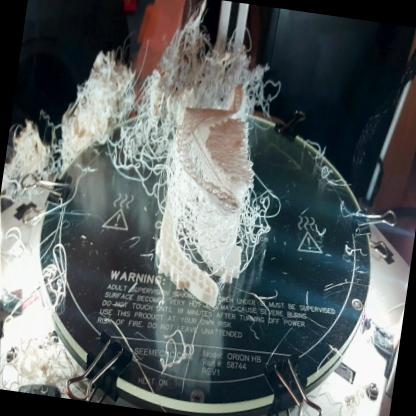fail: (157, 12, 273, 119), (151, 153, 242, 264), (115, 81, 177, 175)
